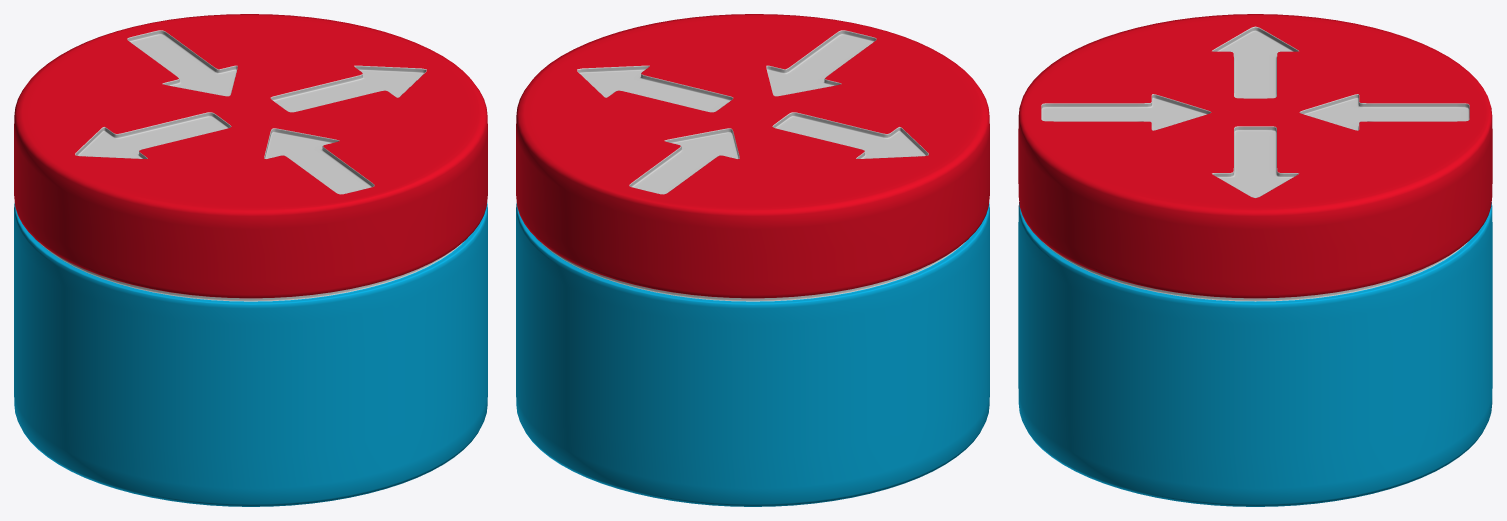
Rendered from RouterWithFirewall.glb.
3 renders of one model, left to right at view 1: azimuth 30°, elevation 25°; view 2: azimuth 150°, elevation 25°; view 3: azimuth 270°, elevation 25°, orthographic.
Visible parts, largest first — view 1: RouterWithFirewall .001; view 2: RouterWithFirewall .001; view 3: RouterWithFirewall .001.
Boxes of the visible parts, <box> form: RouterWithFirewall .001: <box>14,14,487,506</box>; RouterWithFirewall .001: <box>516,14,989,506</box>; RouterWithFirewall .001: <box>1018,14,1492,506</box>.
Size of the model in its own units: 4.64 by 3.2 by 4.64.
